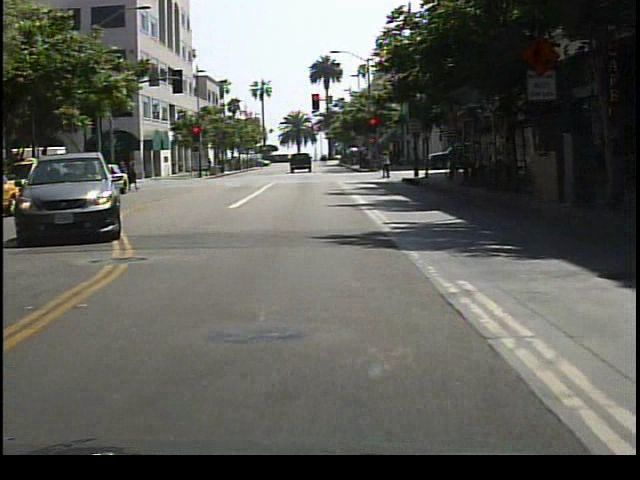person: (409, 144, 425, 174), (125, 158, 139, 191), (379, 150, 395, 178)
